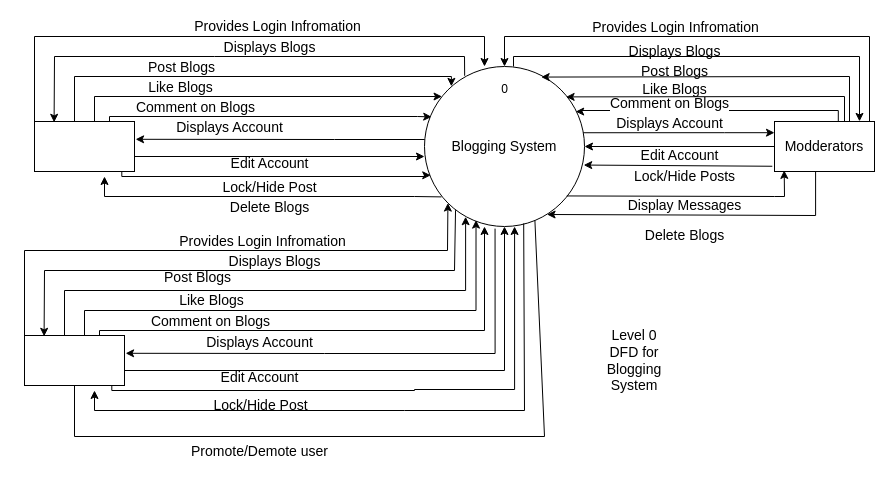
This 895x483 diagram has some shape labels left out. Each missing label, with the centre of its shape:
Super Admin: the point at 74,360
User: the point at 84,146
